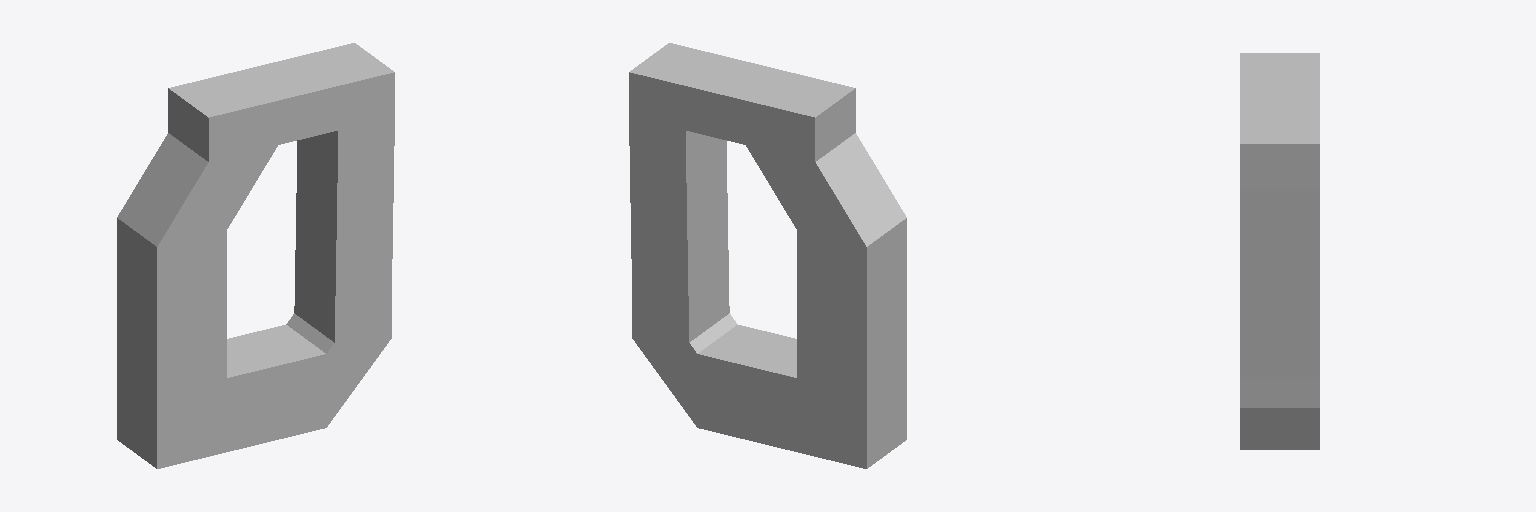
Rendered from asteroid1.obj.
The picture shows the model from 3 angles: view 1: azimuth 30°, elevation 25°; view 2: azimuth 150°, elevation 25°; view 3: azimuth 270°, elevation 25°; orthographic projection.
Visible parts, largest first — view 1: Cube_Cube.001; view 2: Cube_Cube.001; view 3: Cube_Cube.001.
Part boxes in pixels (left/top/right/bottom): Cube_Cube.001: left=117, top=43, right=394, bottom=468; Cube_Cube.001: left=629, top=43, right=906, bottom=468; Cube_Cube.001: left=1240, top=53, right=1319, bottom=449.
Bounding box in the file's own units: 13.63 × 18.57 × 4.